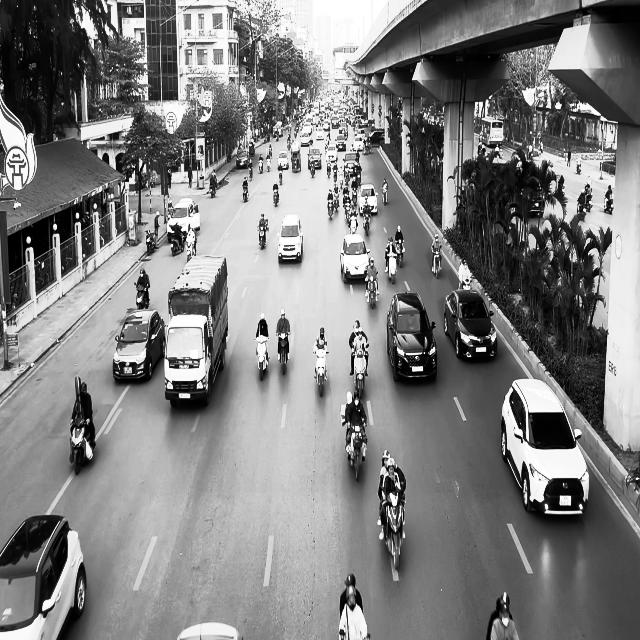bus: (480, 116, 505, 147)
car: (500, 377, 590, 517), (0, 514, 87, 639), (387, 291, 438, 382), (112, 309, 166, 382), (443, 289, 498, 360), (340, 234, 370, 284), (167, 197, 200, 242), (277, 212, 303, 264), (520, 176, 546, 217), (358, 183, 378, 214), (236, 150, 250, 168)
motorbike: (378, 488, 406, 570), (345, 418, 367, 480), (313, 348, 328, 396), (255, 336, 269, 380), (277, 333, 289, 375), (134, 282, 150, 310), (366, 272, 378, 308), (431, 246, 441, 278), (258, 223, 268, 249), (145, 229, 155, 255), (604, 193, 613, 214), (242, 182, 249, 202), (273, 188, 280, 206)
truck: (164, 253, 228, 408)
